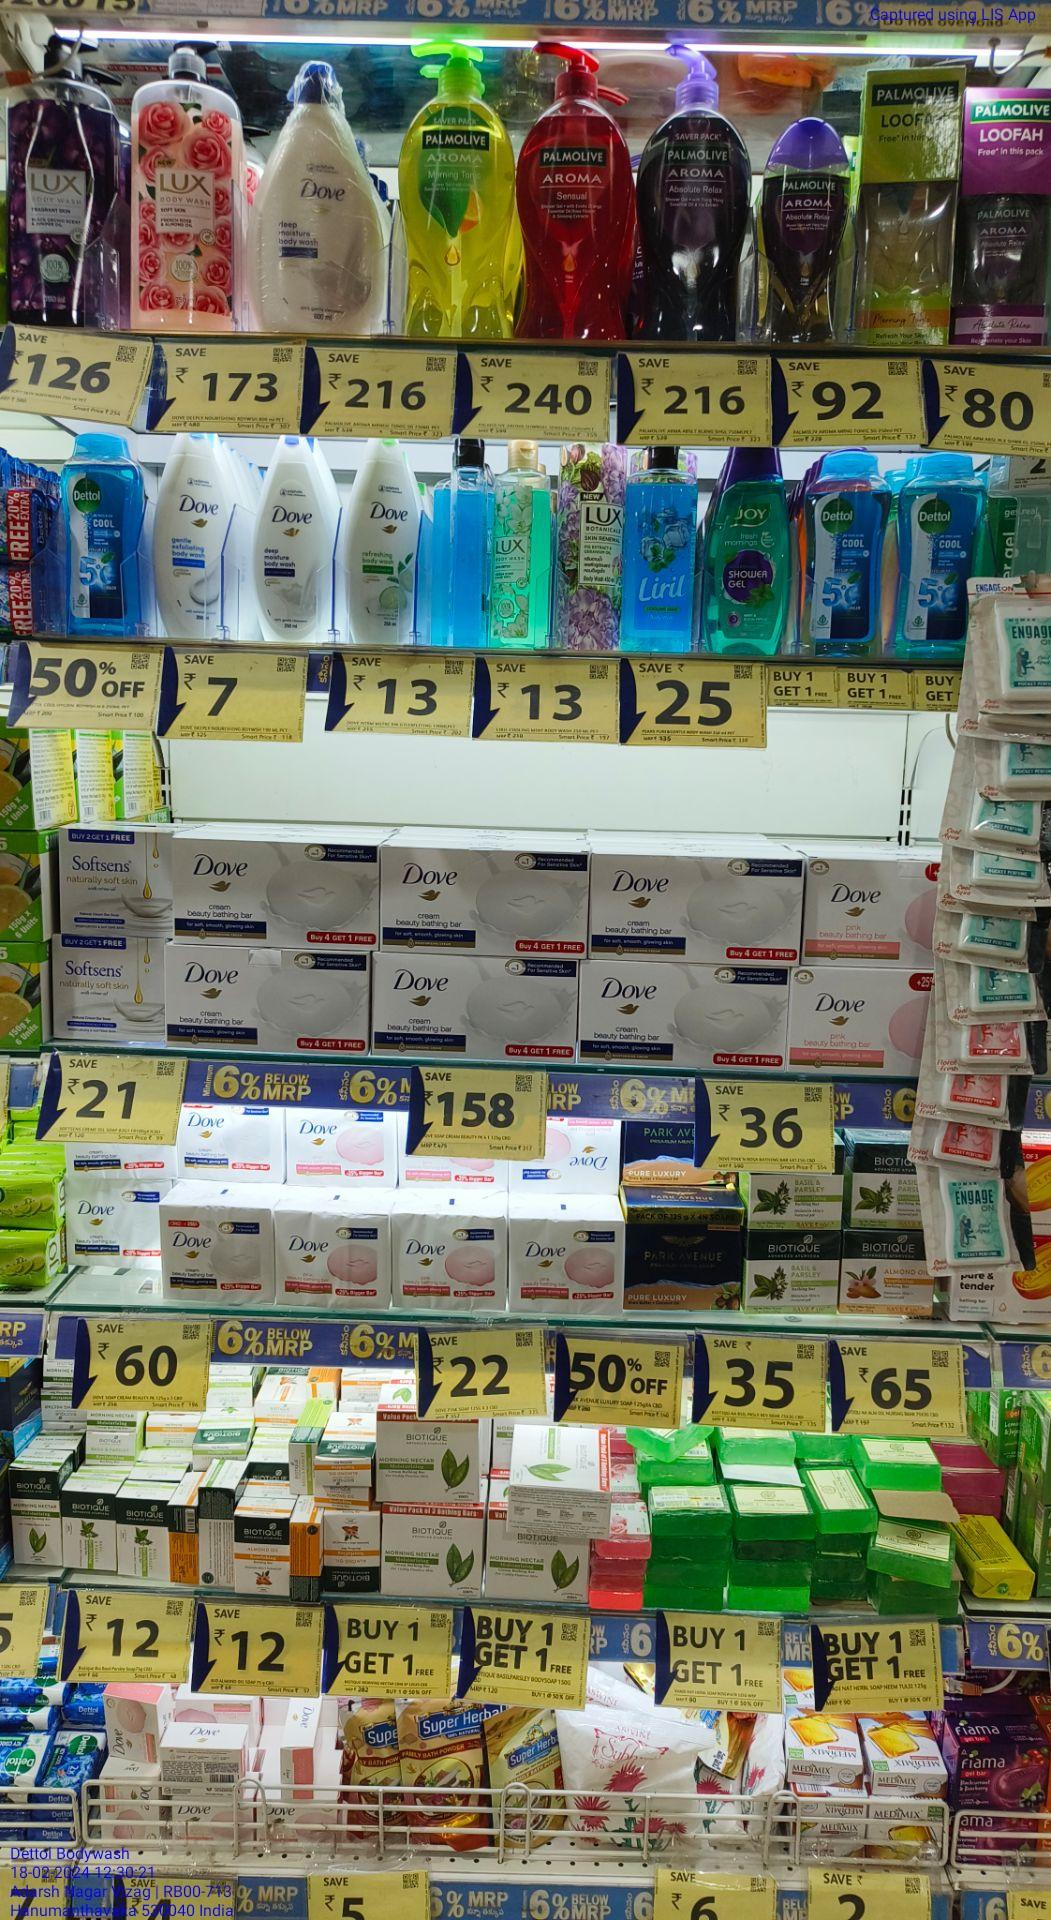Dettol_Bodywash_Cool: (801, 449, 883, 657), (894, 452, 971, 660), (62, 432, 137, 637)
Dove_Deep_Moisture_Body_Wash_250ML: (255, 437, 334, 638)
Dove_Gentle_Exfoliating_Body_Wash_250ML: (157, 435, 242, 638)
Dove_Refreshing_Body_Wash_250ML: (339, 436, 414, 647)
Joy_Shower_Gel_Mint_and_Eucalyptus_250ML: (705, 446, 788, 656)
Liril_Cooling_Mint_Body_Wash_250ML: (625, 446, 694, 653)
Lux_Body_Wash_Skin_Detox_Freesia_Scent_and_Alove_Vera_245ML: (491, 440, 553, 651)
Palmolive_Aroma_Relax_250ML: (761, 113, 837, 347)
